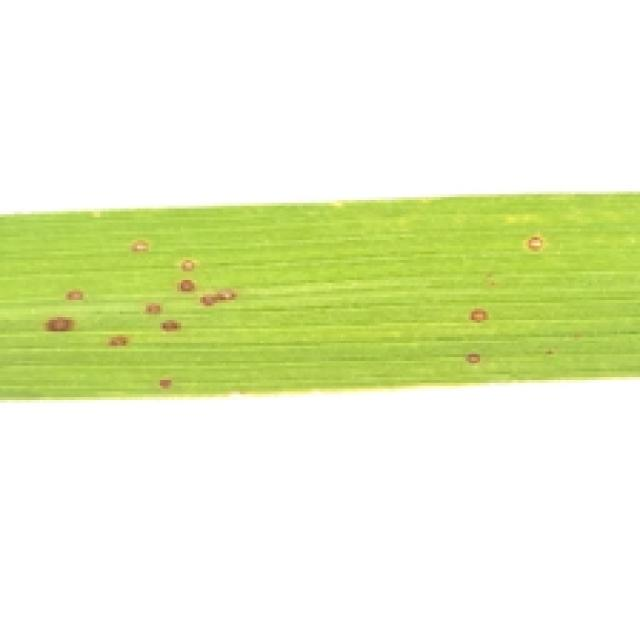Rice___Brown_Spot: (1, 193, 637, 400)
